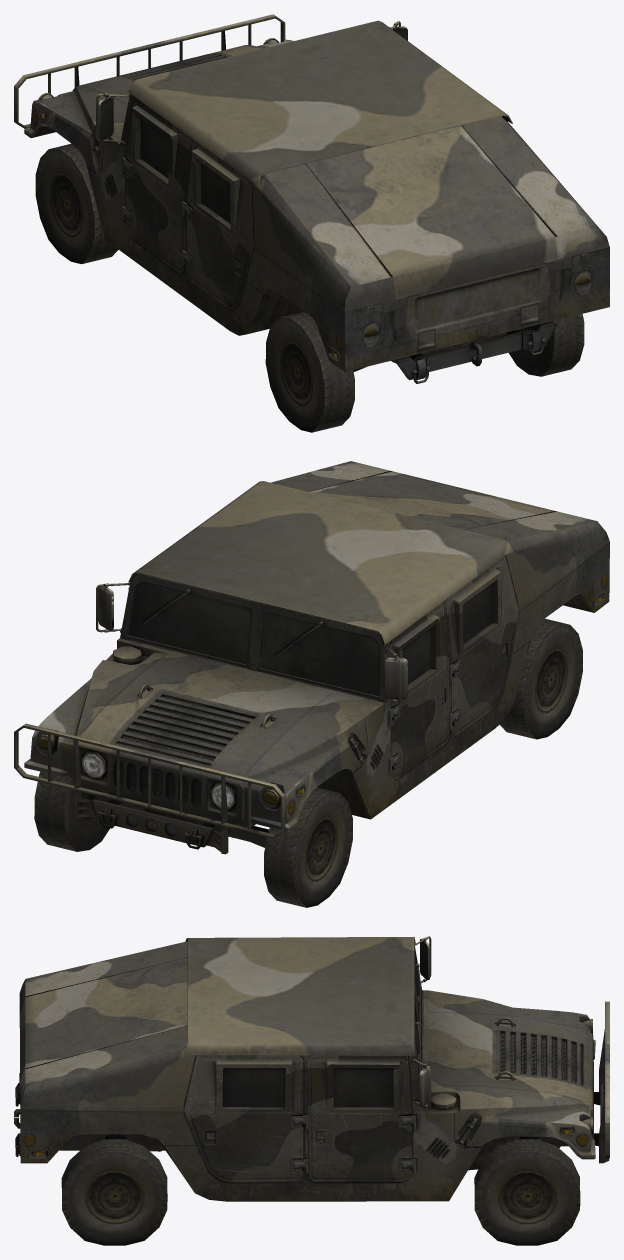
File: Vehicle_1.fbx
3 views of the same model, one above another, from view 1: azimuth 30°, elevation 25°; view 2: azimuth 150°, elevation 25°; view 3: azimuth 270°, elevation 25° (orthographic). The views are drawn at different scales.
Parts seen in each view (by area): view 1: _null_; view 2: _null_; view 3: _null_.
Part boxes in pixels (<box>): _null_: <box>14,14,609,432</box>; _null_: <box>14,461,609,907</box>; _null_: <box>14,936,609,1245</box>.
Bounding box in the file's own units: 4.51 × 3.09 × 8.38.
